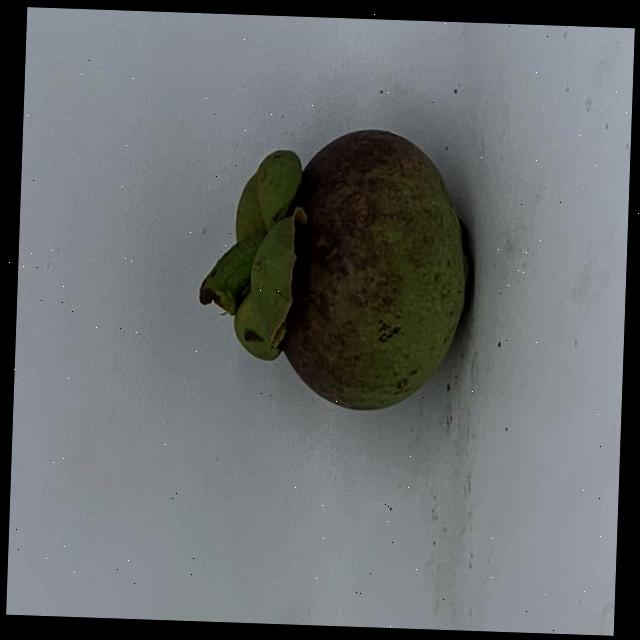mangosteen: (192, 121, 482, 460)
